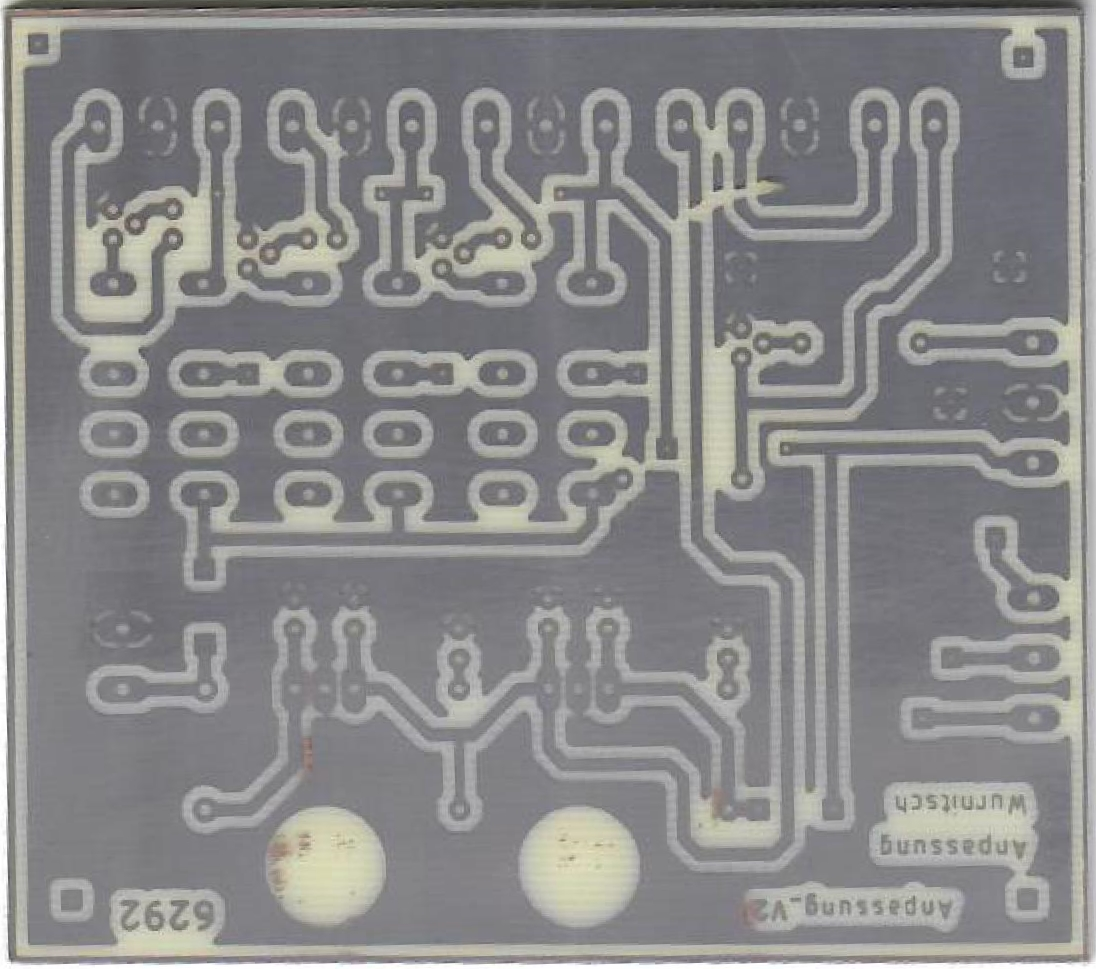bsH: (592, 99, 621, 152), (279, 98, 306, 153), (398, 100, 426, 152), (204, 100, 232, 151), (85, 100, 111, 153), (473, 99, 500, 150), (594, 666, 622, 714), (535, 667, 562, 713), (564, 668, 592, 712)
bsW: (179, 420, 229, 448), (283, 360, 333, 387), (178, 360, 226, 388), (178, 269, 227, 296), (89, 270, 137, 296), (284, 271, 332, 297), (374, 270, 422, 296), (180, 482, 229, 507)
